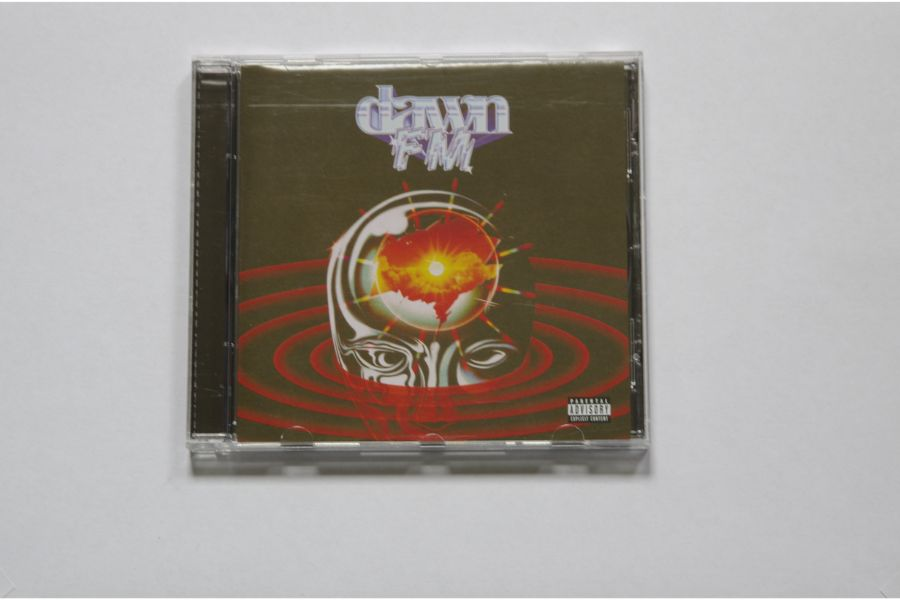album: (184, 50, 656, 455)
